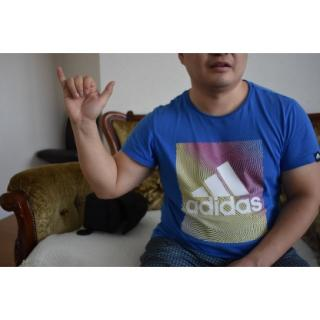YA: (56, 64, 118, 125)
